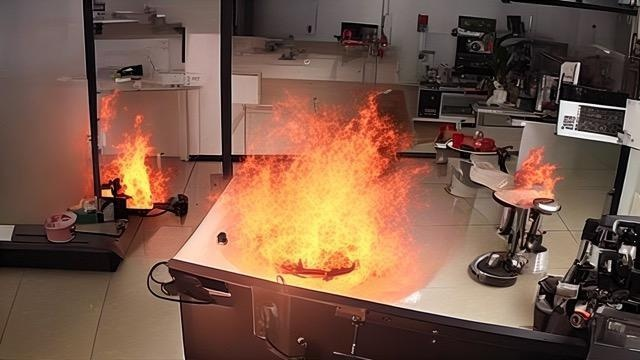fire: (240, 85, 424, 298), (84, 90, 174, 215), (484, 140, 571, 215)
